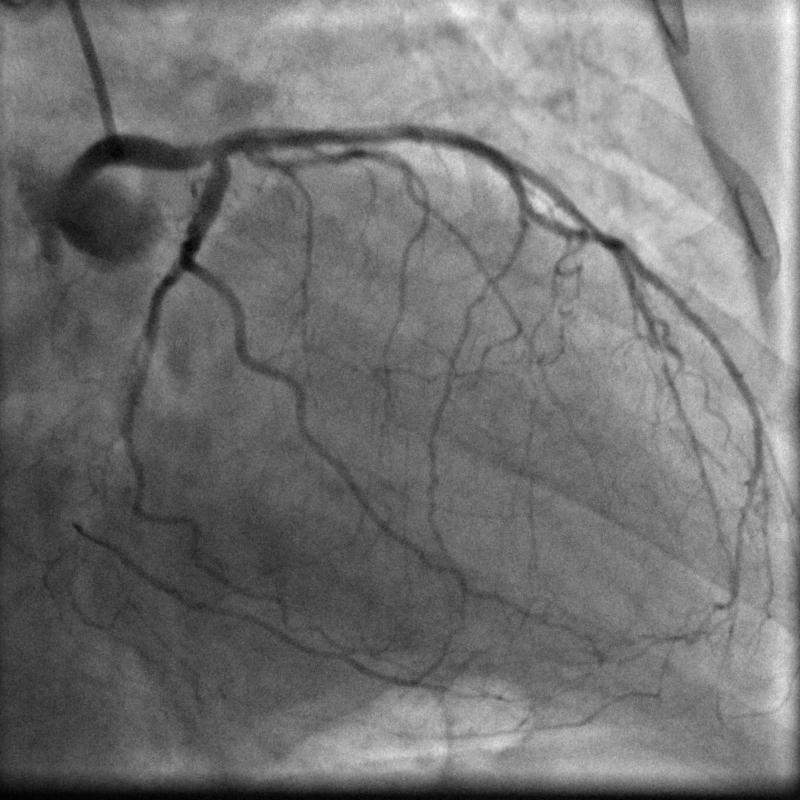Stenosis: (332, 124, 404, 145)
